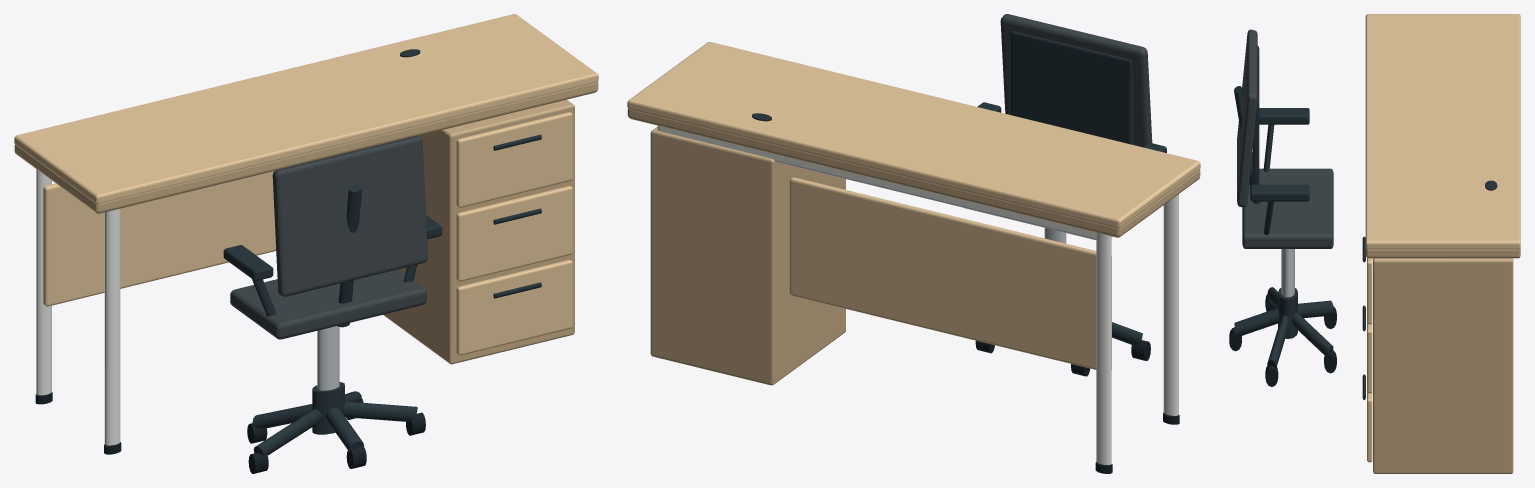
The model's file is teacher-desk.glb.
3 renders of one model, left to right at view 1: azimuth 30°, elevation 25°; view 2: azimuth 150°, elevation 25°; view 3: azimuth 270°, elevation 25°, orthographic. The views are drawn at different scales.
Parts seen in each view (by area): view 1: tabletop, drawer-front (×3), curved-back, modesty-panel, drawer-pedestal, moulded-seat, table-leg (×2), table-edge, star-base (×4), lift-column, column-cover, arm-pad (+1 smaller); view 2: tabletop, modesty-panel, drawer-pedestal, back-cushion, table-leg (×2), table-edge, curved-back, underframe-front; view 3: tabletop, drawer-pedestal, moulded-seat, curved-back, star-base (×4), arm-pad (×2), table-edge, drawer-front (×3), lift-column, back-cushion, column-cover, back-spine (+1 smaller).
Part boxes in pixels (x1=…): tabletop: x1=14, y1=14, x2=598, y2=204; drawer-front (×3): x1=456, y1=112, x2=572, y2=355; curved-back: x1=272, y1=136, x2=427, y2=296; modesty-panel: x1=43, y1=171, x2=276, y2=306; drawer-pedestal: x1=383, y1=99, x2=574, y2=364; moulded-seat: x1=230, y1=269, x2=426, y2=339; table-leg (×2): x1=36, y1=169, x2=120, y2=445; table-edge: x1=14, y1=82, x2=598, y2=213; star-base (×4): x1=252, y1=401, x2=417, y2=456; lift-column: x1=317, y1=326, x2=339, y2=390; column-cover: x1=312, y1=382, x2=344, y2=434; arm-pad: x1=223, y1=245, x2=273, y2=280; tabletop: x1=627, y1=42, x2=1200, y2=228; modesty-panel: x1=789, y1=177, x2=1111, y2=369; drawer-pedestal: x1=650, y1=127, x2=845, y2=385; back-cushion: x1=1010, y1=31, x2=1133, y2=144; table-leg (×2): x1=1096, y1=194, x2=1178, y2=464; table-edge: x1=627, y1=108, x2=1200, y2=237; curved-back: x1=1000, y1=14, x2=1152, y2=147; underframe-front: x1=657, y1=125, x2=1096, y2=239; tabletop: x1=1365, y1=14, x2=1520, y2=249; drawer-pedestal: x1=1373, y1=258, x2=1513, y2=473; moulded-seat: x1=1242, y1=168, x2=1333, y2=248; curved-back: x1=1237, y1=29, x2=1257, y2=207; star-base (×4): x1=1234, y1=300, x2=1333, y2=368; arm-pad (×2): x1=1250, y1=108, x2=1309, y2=201; table-edge: x1=1365, y1=248, x2=1520, y2=258; drawer-front (×3): x1=1367, y1=258, x2=1372, y2=462; lift-column: x1=1281, y1=249, x2=1294, y2=297; back-cushion: x1=1253, y1=46, x2=1259, y2=184; column-cover: x1=1278, y1=288, x2=1297, y2=338; back-spine: x1=1234, y1=86, x2=1260, y2=203.
Size of the model in its own units: 1.3 by 0.76 by 0.7.
